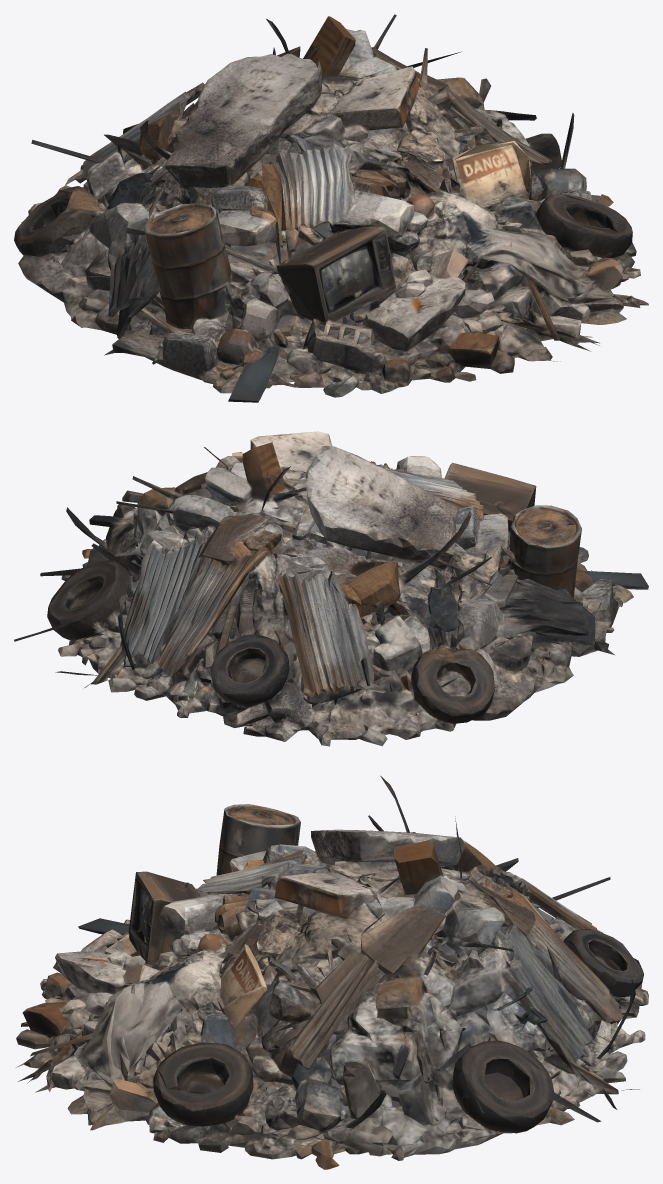
The model's file is rubble.glb.
The picture shows the model from 3 angles, top to bottom: view 1: azimuth 30°, elevation 25°; view 2: azimuth 150°, elevation 25°; view 3: azimuth 270°, elevation 25°; orthographic projection. The views are drawn at different scales.
Visible parts, largest first — view 1: output_unwrapped; view 2: output_unwrapped; view 3: output_unwrapped.
Boxes of the visible parts, left/top/right/bottom form: output_unwrapped: left=14, top=14, right=648, bottom=402; output_unwrapped: left=14, top=431, right=648, bottom=746; output_unwrapped: left=16, top=775, right=648, bottom=1169.
Bounding box in the file's own units: 1.79 × 0.66 × 1.78.
Materials: 1 (1 with a texture image).
